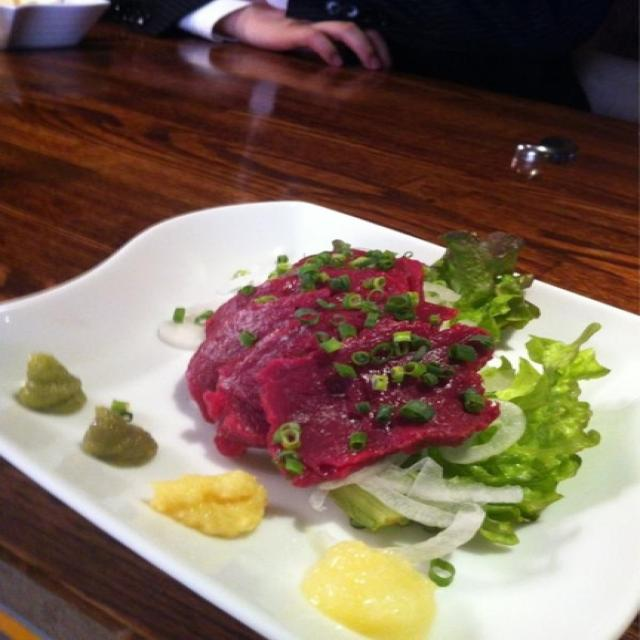刺身生食: (132, 188, 526, 506)
